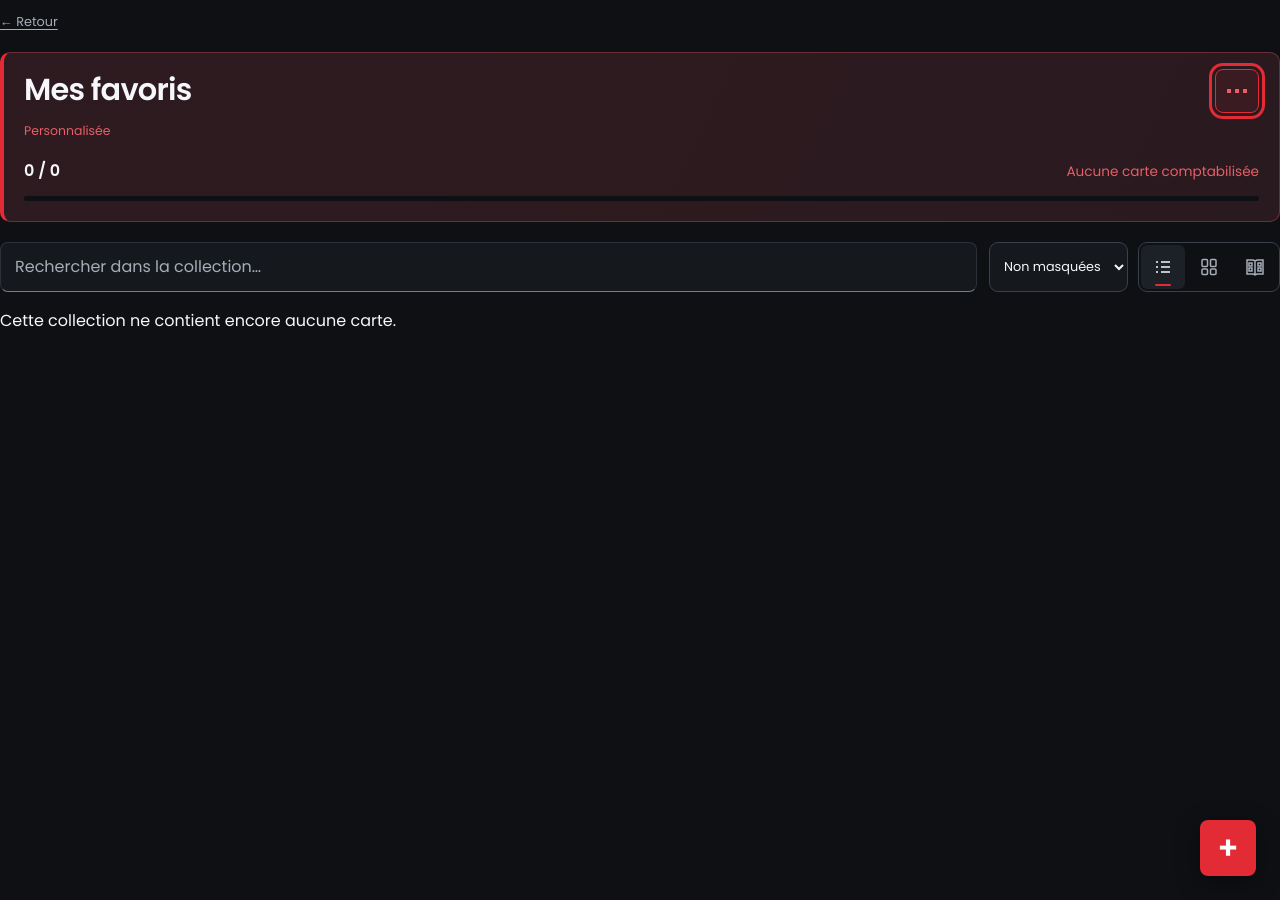
it: rename erreur not_authorized assainie sans retry automatique
Click the button named "Actions de la collection": (1237, 91) [1215,69,1259,113]
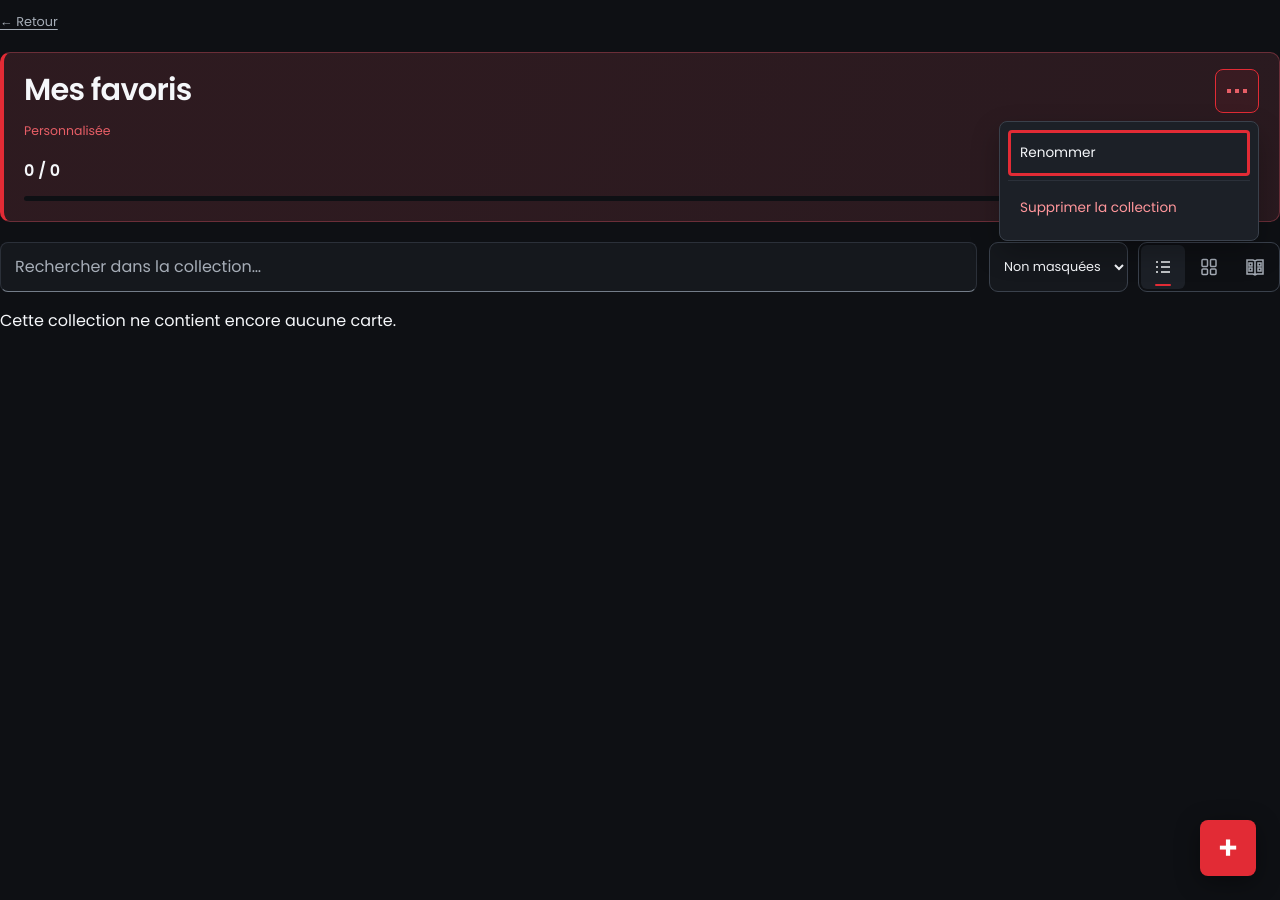
Click the button "Renommer": (1129, 153) [1008,130,1250,176]
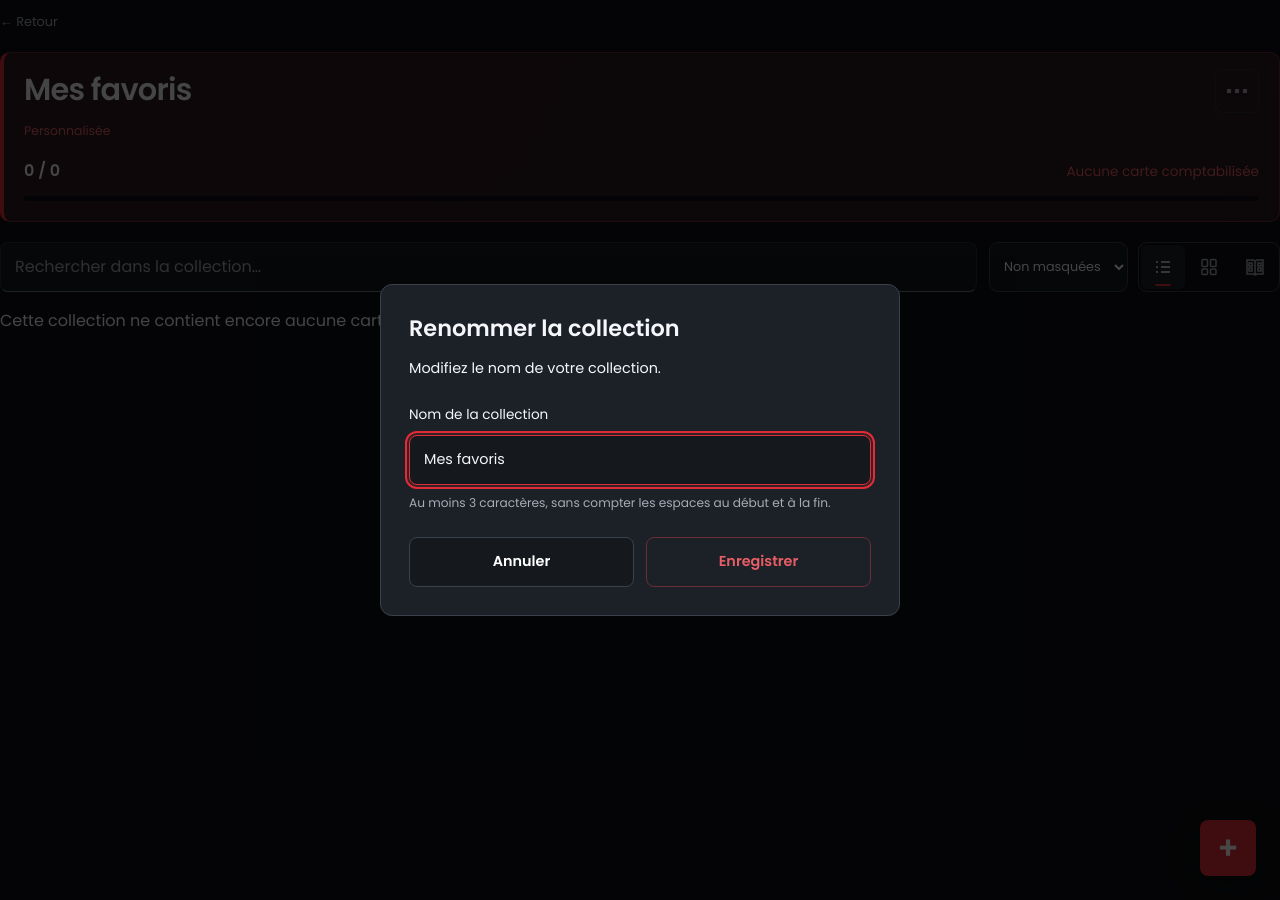
Submit the form, box [409,404,871,587]
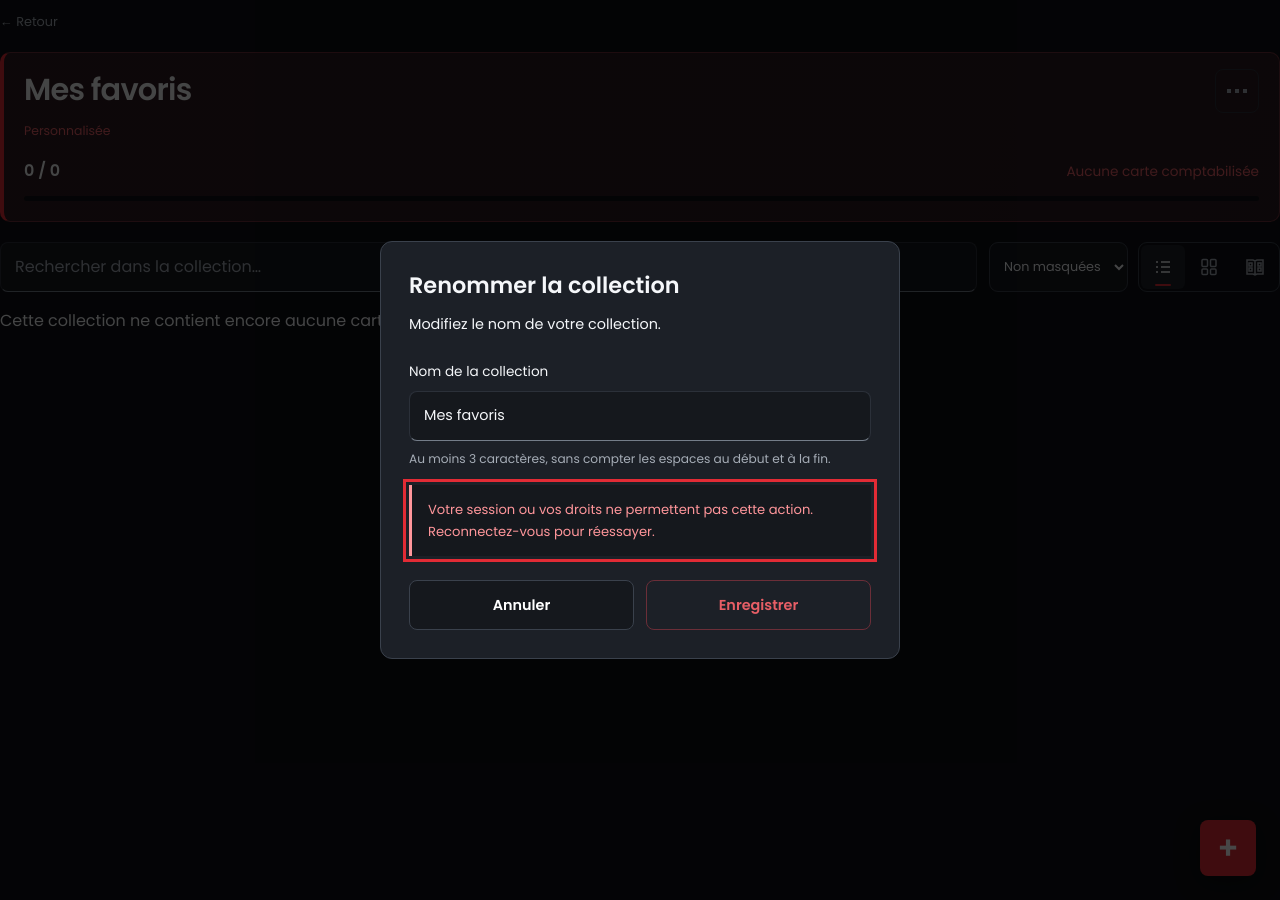
Expected: the button "Annuler" is enabled, [409,580,634,630]
Expected: the message shows "Votre session ou vos droits", [428,500,813,541]
